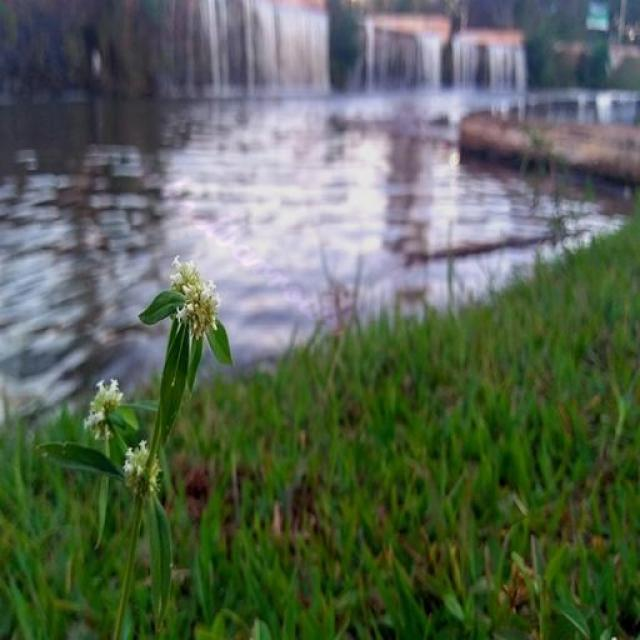watermark: (124, 141, 369, 348)
